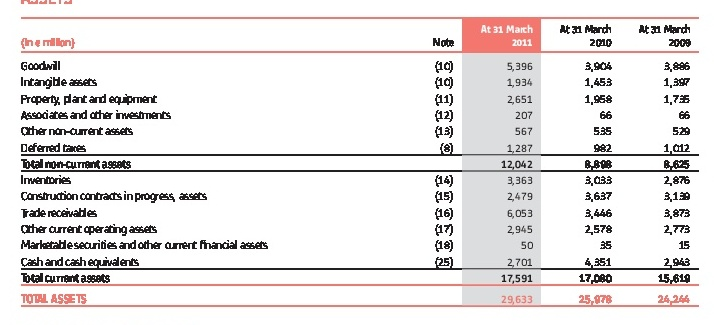table: (0, 0, 714, 325)
